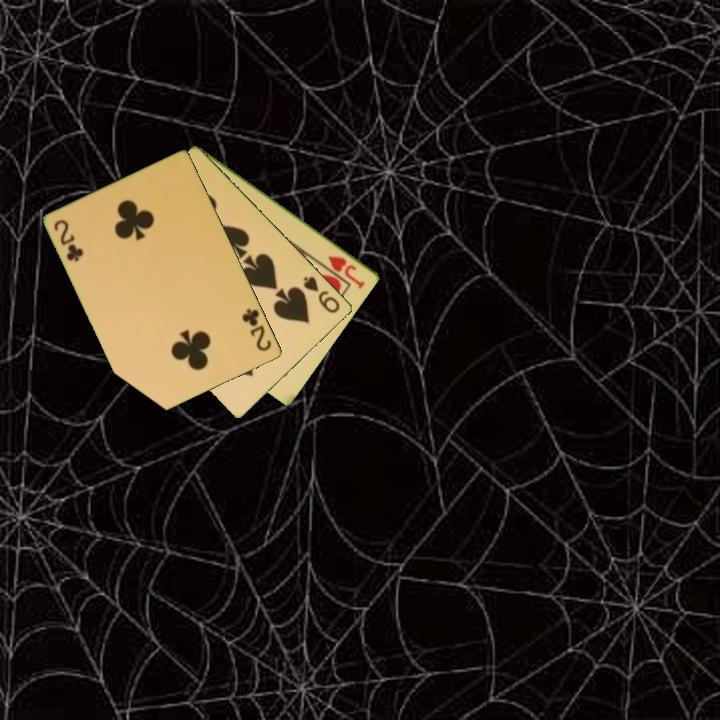2c: (239, 305, 275, 354), (51, 216, 86, 265)
9s: (300, 272, 343, 316)
Jh: (325, 252, 368, 292)
